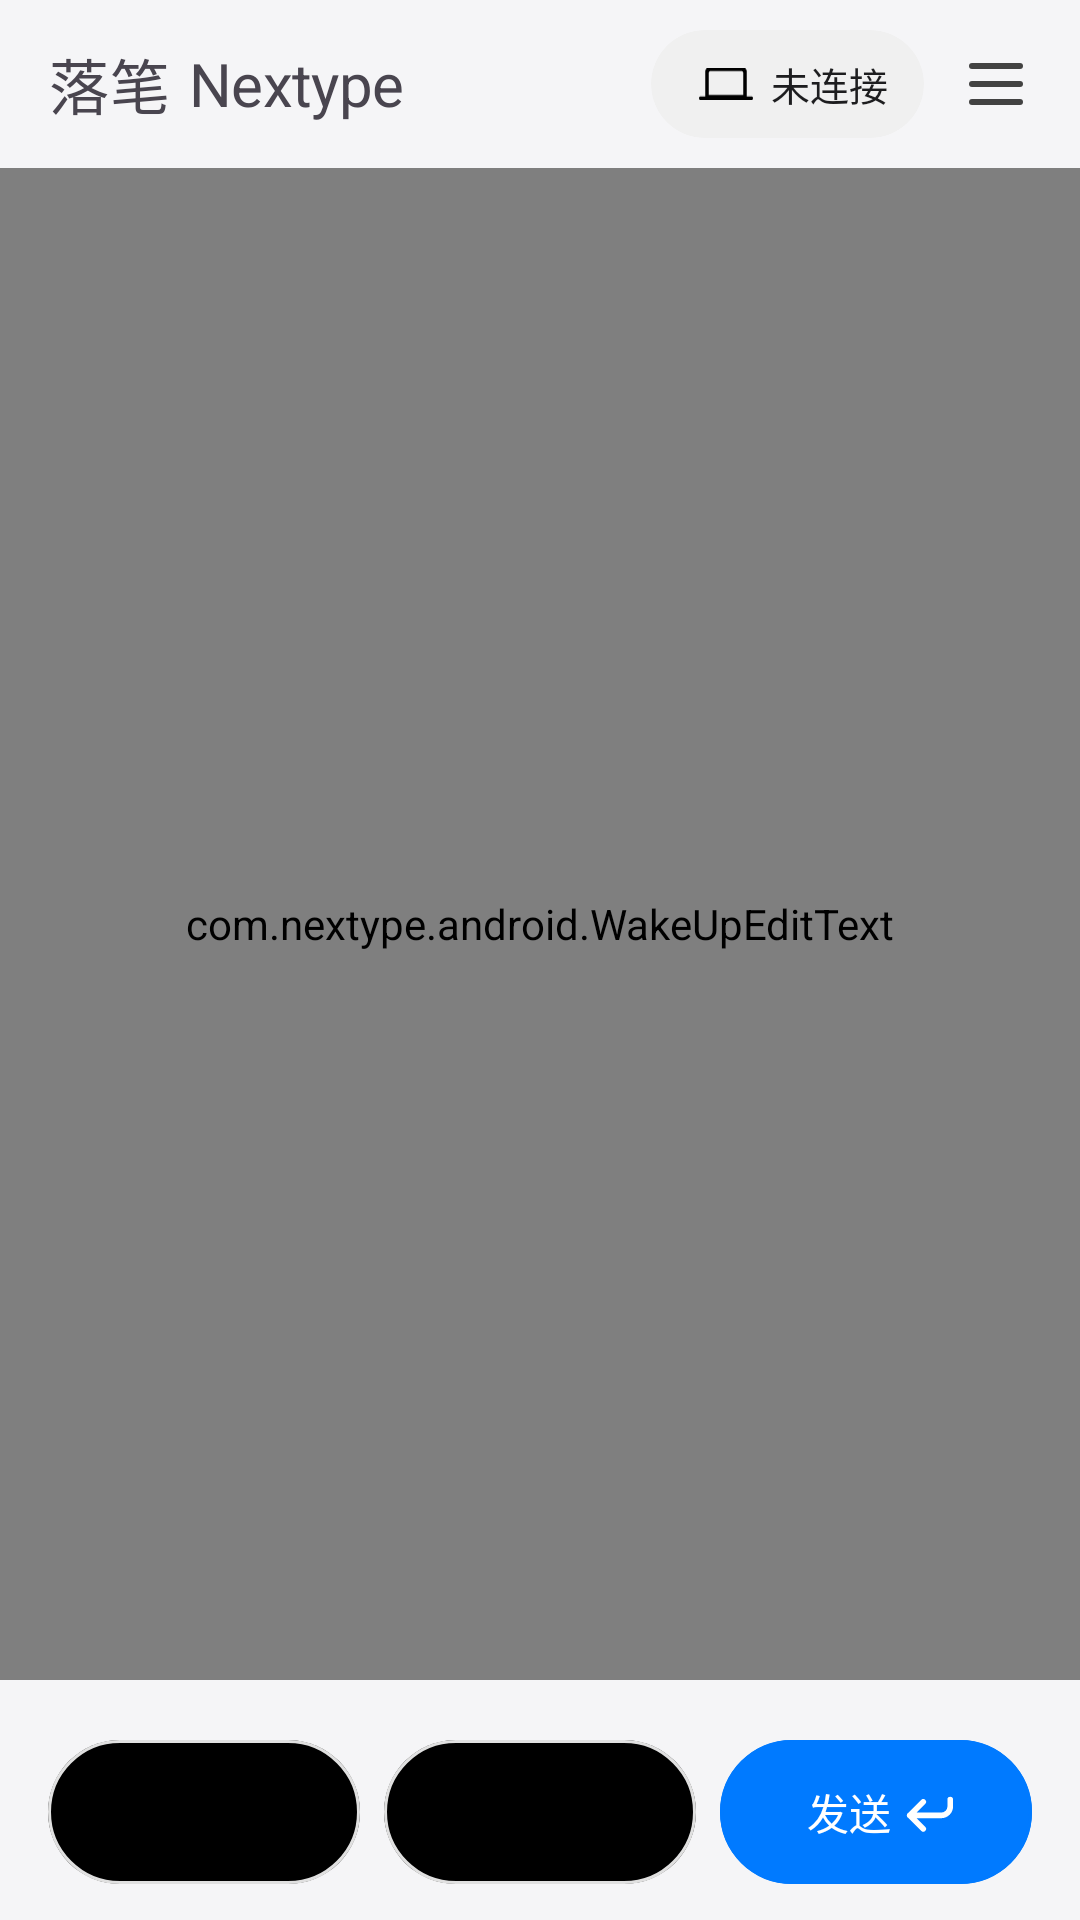

Icon click points for this 1080px×1920px phone screenshot, format (x=x, y=y):
device laptop: (x=726, y=84)
菜单: (x=996, y=84)
